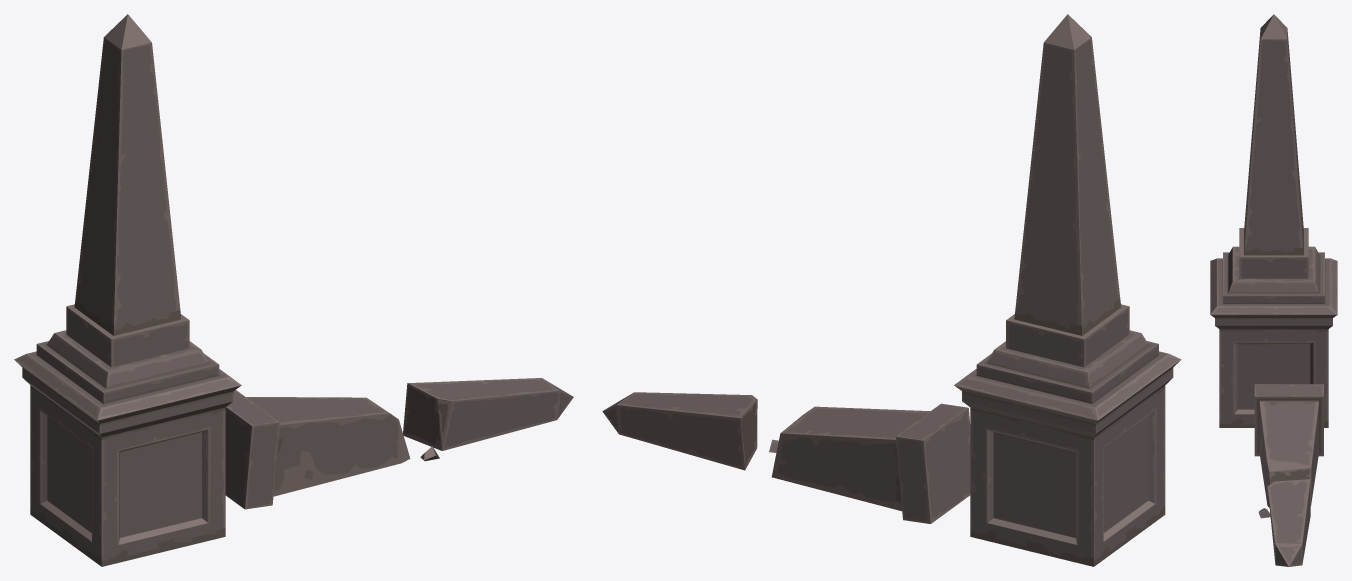
File: Obelisk1.fbx
The picture shows the model from 3 angles, left to right: view 1: azimuth 30°, elevation 25°; view 2: azimuth 150°, elevation 25°; view 3: azimuth 270°, elevation 25°; orthographic projection. The views are drawn at different scales.
Visible parts, largest first — view 1: ObeliskBase1, ObeliskIntact, ObeliskBroken, ObeliskBrokenTop; view 2: ObeliskBase1, ObeliskIntact, ObeliskBroken, ObeliskBrokenTop; view 3: ObeliskBase1, ObeliskIntact, ObeliskBroken, ObeliskBrokenTop.
Part boxes in pixels (x1,y1,x2,y2): ObeliskBase1: [14, 330, 241, 566]; ObeliskIntact: [66, 14, 189, 367]; ObeliskBroken: [225, 390, 410, 509]; ObeliskBrokenTop: [403, 378, 573, 450]; ObeliskBase1: [954, 330, 1181, 566]; ObeliskIntact: [1006, 14, 1129, 367]; ObeliskBroken: [771, 403, 970, 523]; ObeliskBrokenTop: [602, 392, 757, 470]; ObeliskBase1: [1210, 246, 1337, 427]; ObeliskIntact: [1239, 14, 1308, 278]; ObeliskBroken: [1254, 384, 1323, 507]; ObeliskBrokenTop: [1267, 479, 1310, 566].
Size of the model in its own units: 1294 by 1205 by 354.
